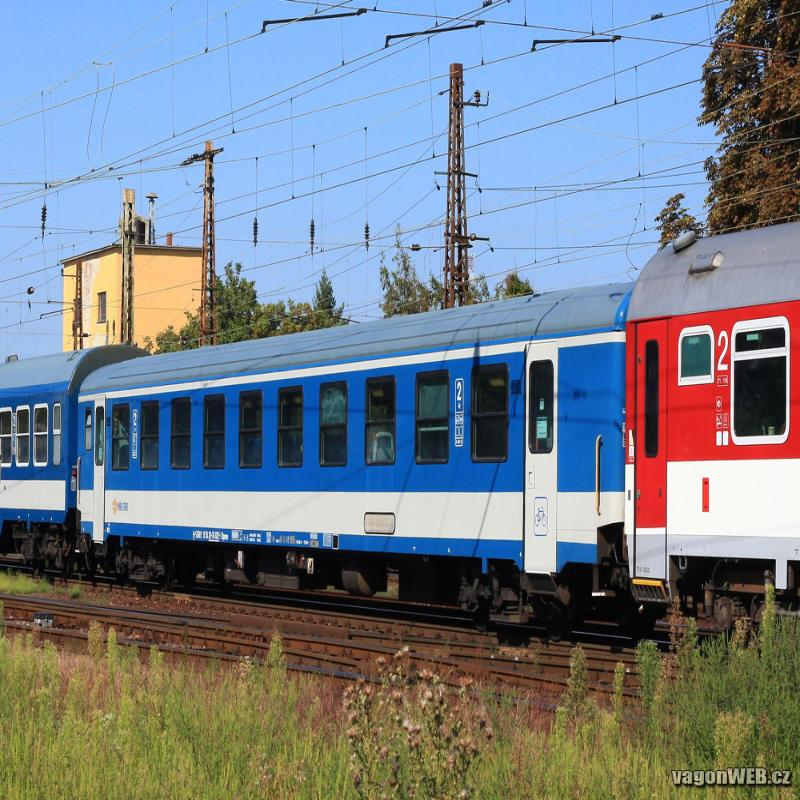train: (76, 284, 635, 651), (626, 225, 798, 637)
